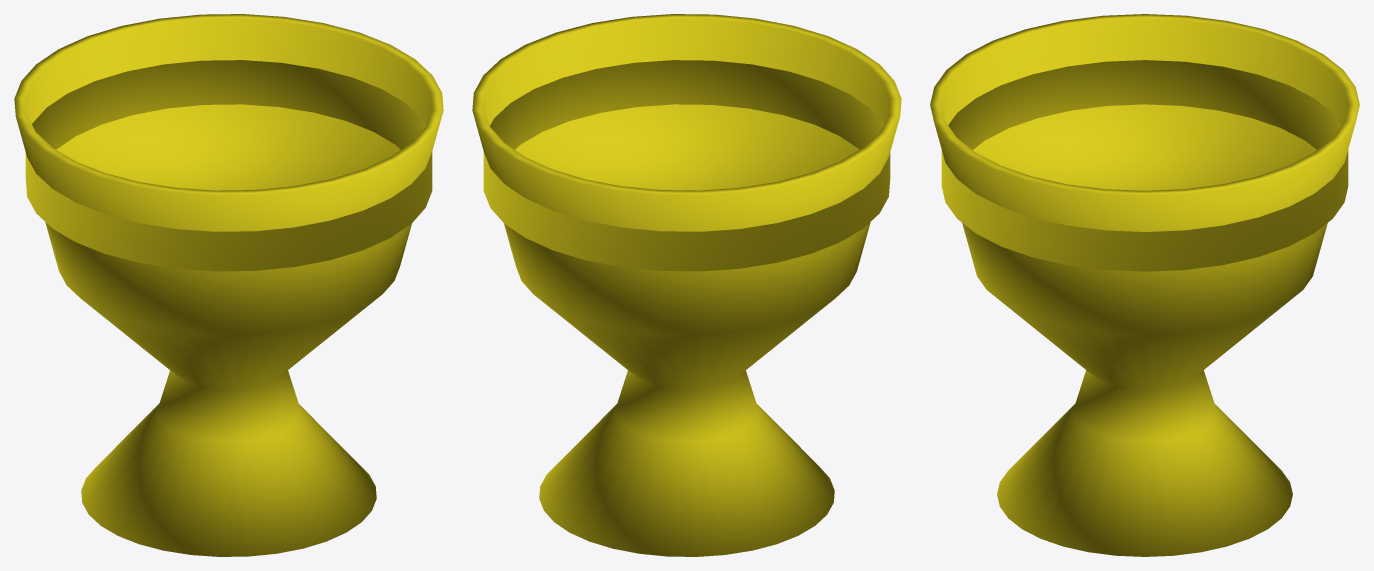
File: Trophy.glb
3 views of the same model, side by side, from view 1: azimuth 30°, elevation 25°; view 2: azimuth 150°, elevation 25°; view 3: azimuth 270°, elevation 25° (orthographic).
Parts seen in each view (by area): view 1: Cylinder; view 2: Cylinder; view 3: Cylinder.
Boxes of the visible parts, <box> form: Cylinder: <box>14,14,443,556</box>; Cylinder: <box>472,14,901,556</box>; Cylinder: <box>930,14,1359,556</box>.
Size of the model in its own units: 0.0566 by 0.0566 by 0.0566.
